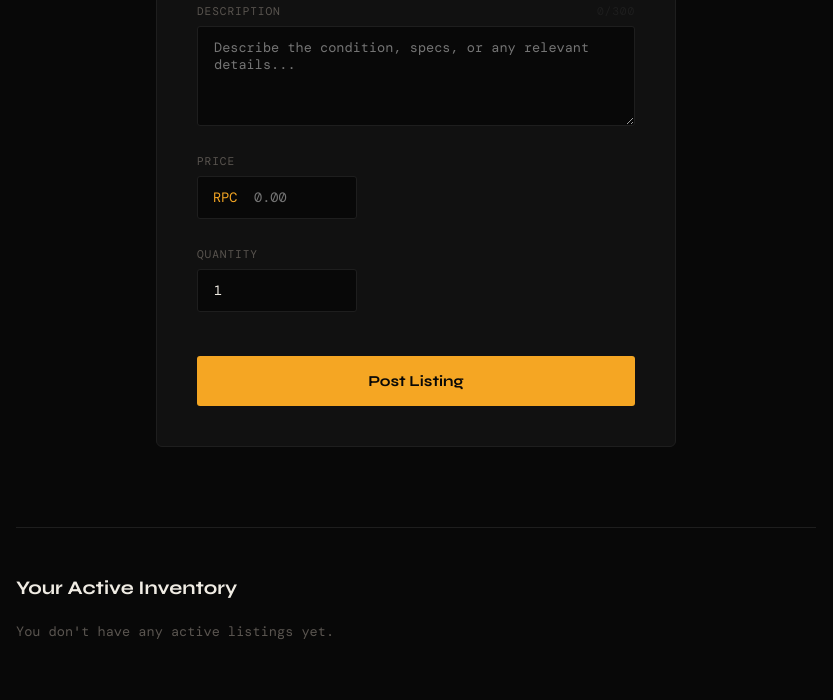
Test: SellPage › shows validation errors when form is submitted empty
(page scrolled)
Click the button "Post Listing" at (416, 381), box [197,356,635,406]
(page scrolled)
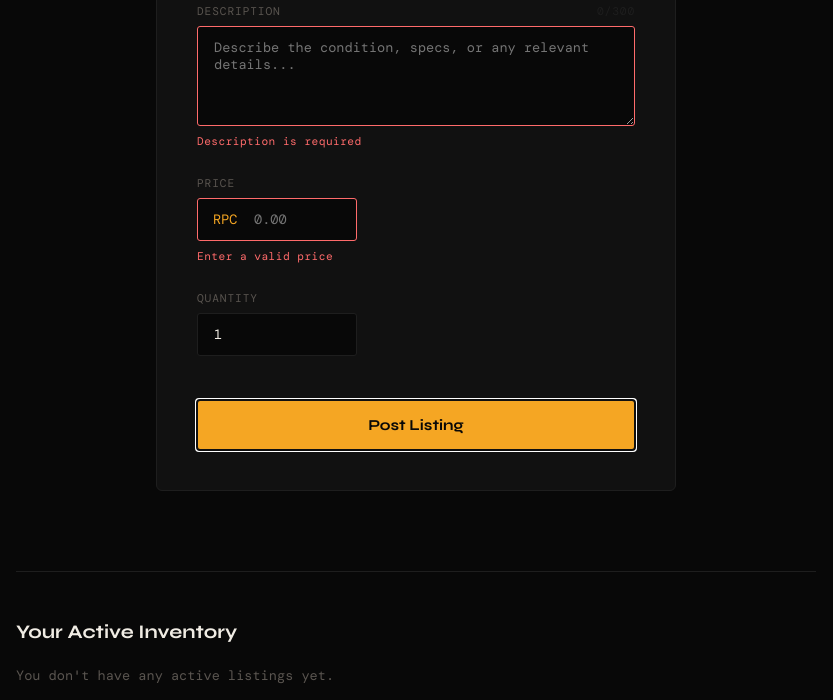
Expected: the text "Description is required" is shown, [197,134,362,148]
Expected: the text "Enter a valid price" is shown, [197,249,333,263]
